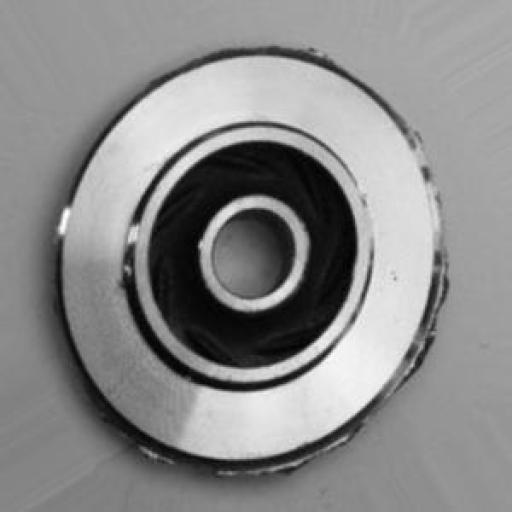defect: (47, 30, 479, 480)
